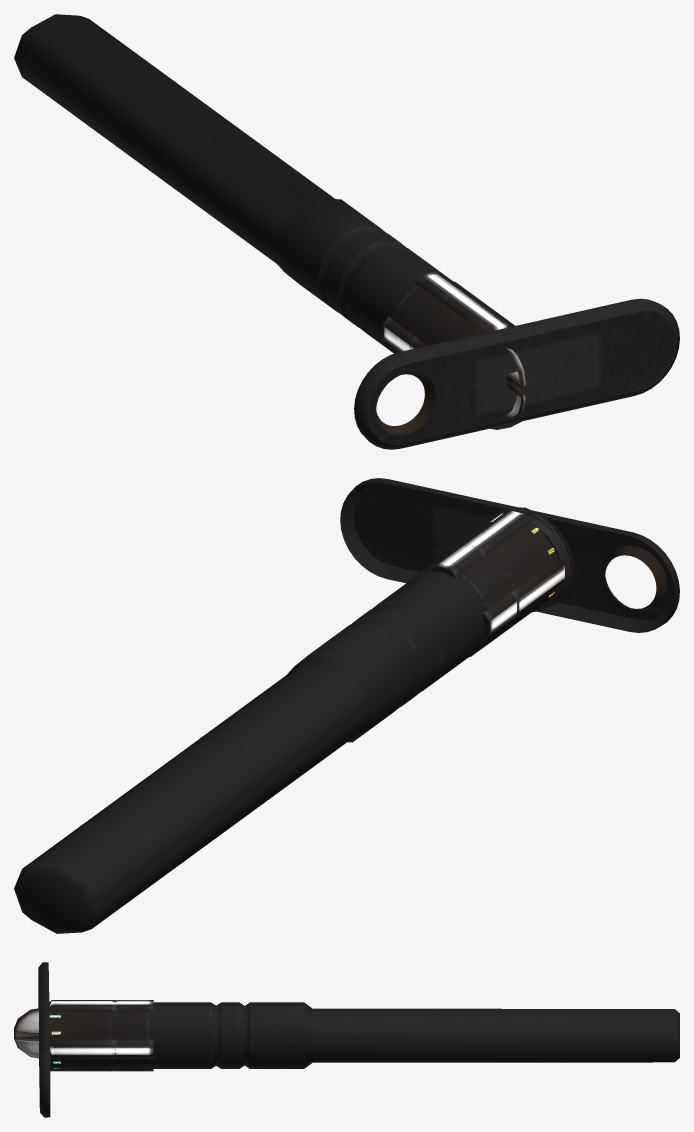
Rendered from portable-radio---walkie-talkie--dual-ban-0b44c0.glb.
3 views of the same model, one above another, from view 1: azimuth 30°, elevation 25°; view 2: azimuth 150°, elevation 25°; view 3: azimuth 270°, elevation 25° (orthographic). The views are drawn at different scales.
Parts seen in each view (by area): view 1: PropMesh; view 2: PropMesh; view 3: PropMesh.
Part boxes in pixels (x1,y1,x2,y2): PropMesh: [14, 14, 679, 449]; PropMesh: [14, 478, 679, 933]; PropMesh: [14, 962, 679, 1117].
Bounding box in the file's own units: 7.57 × 2.2 × 19.26.
Materials: 2 (2 with a texture image).
